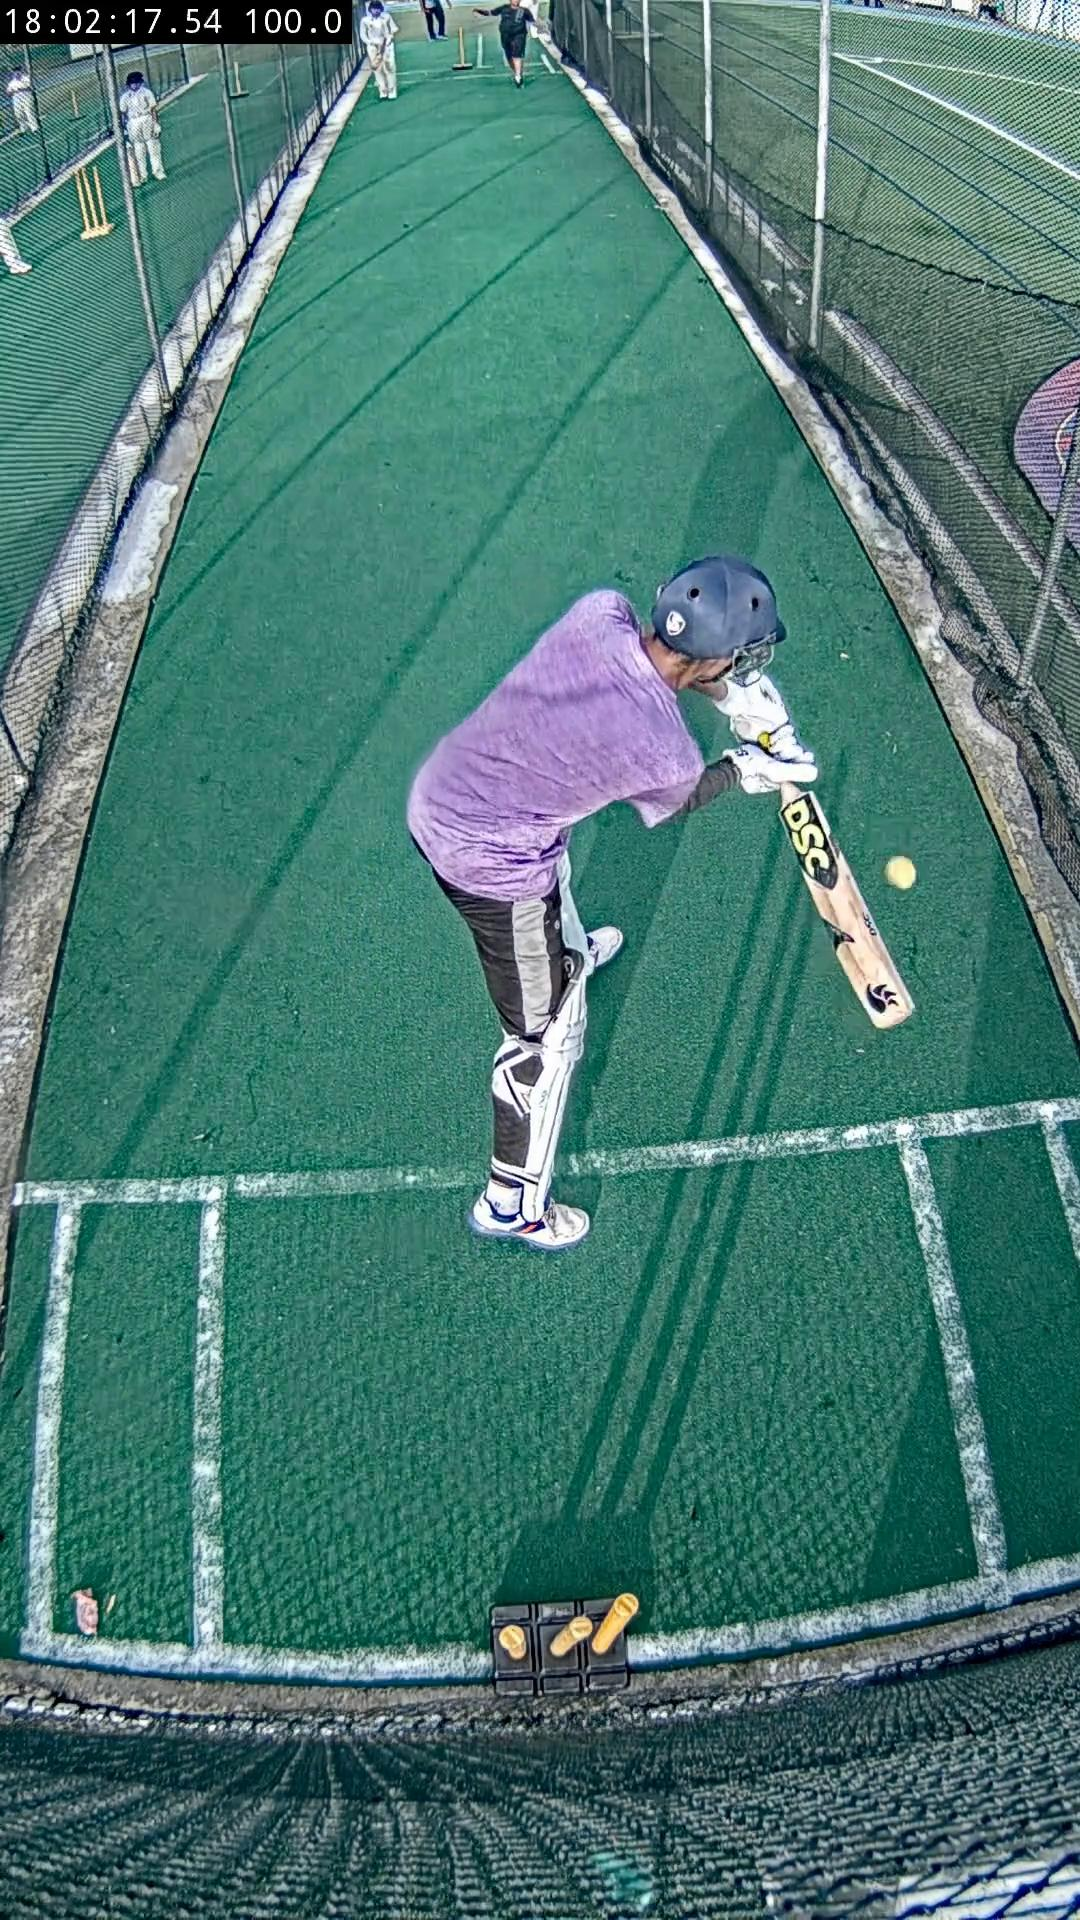ball: (885, 855, 915, 889)
bat: (781, 783, 915, 1026)
gloves: (716, 675, 818, 795)
helmet: (653, 555, 783, 659)
pads: (521, 964, 588, 1222)
stumps: (492, 1594, 637, 1693)
